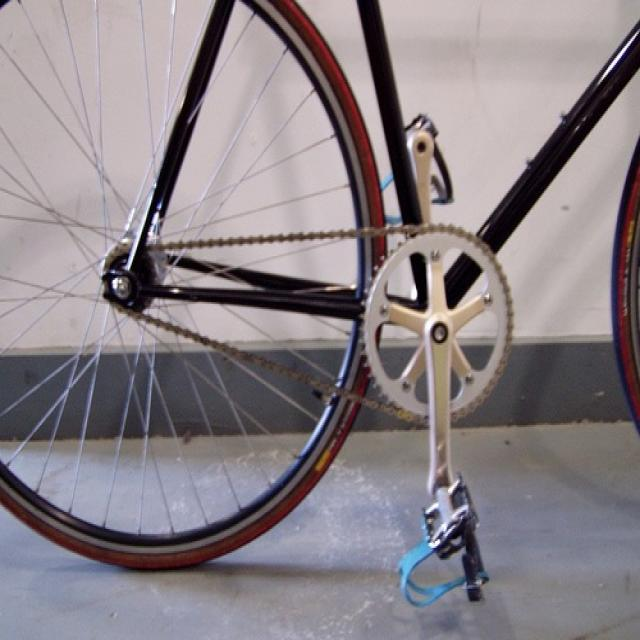bicycle: (1, 0, 639, 608)
